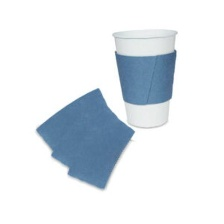paper_cup: (106, 24, 181, 132)
